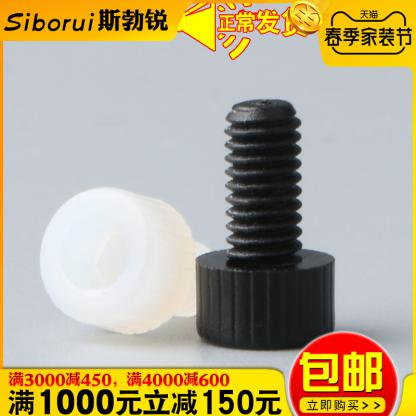FOD: (192, 96, 338, 353), (37, 185, 217, 338)
